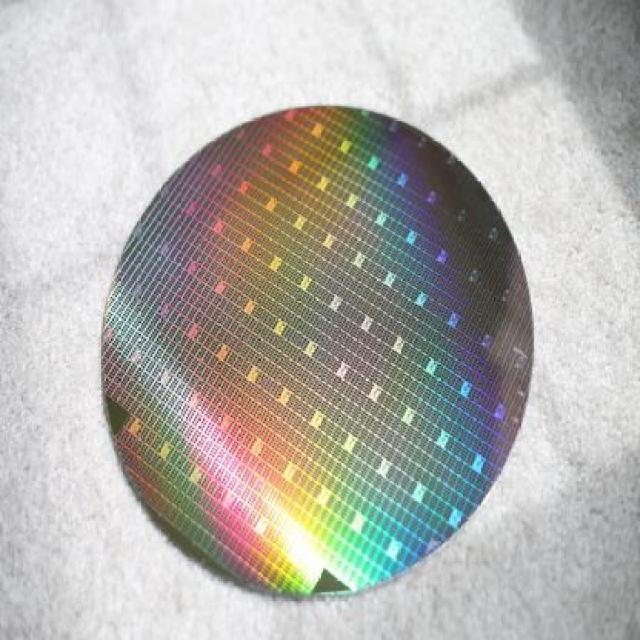Wafer: (98, 106, 535, 603)
